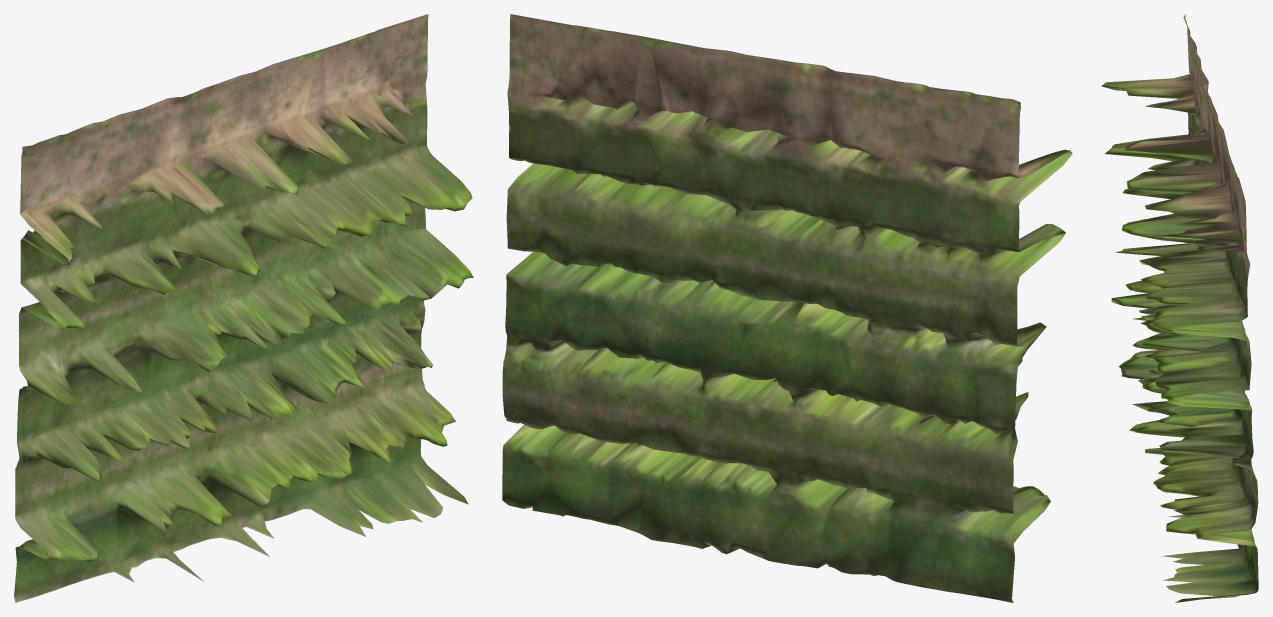
File: map_150_40.obj
The picture shows the model from 3 angles, left to right: view 1: azimuth 30°, elevation 25°; view 2: azimuth 150°, elevation 25°; view 3: azimuth 270°, elevation 25°; orthographic projection. The views are drawn at different scales.
Bounding box in the file's own units: 10 × 10 × 3.55.
Materials: 1 (1 with a texture image).
